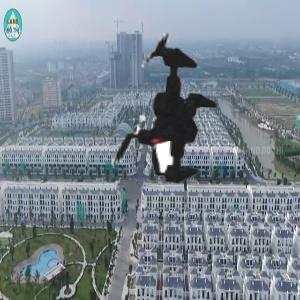drone: (50, 3, 271, 224)
